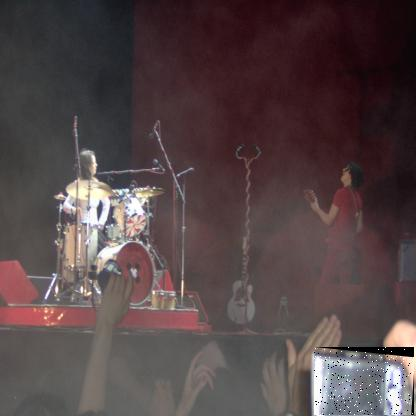Camera: (315, 348, 416, 416)
